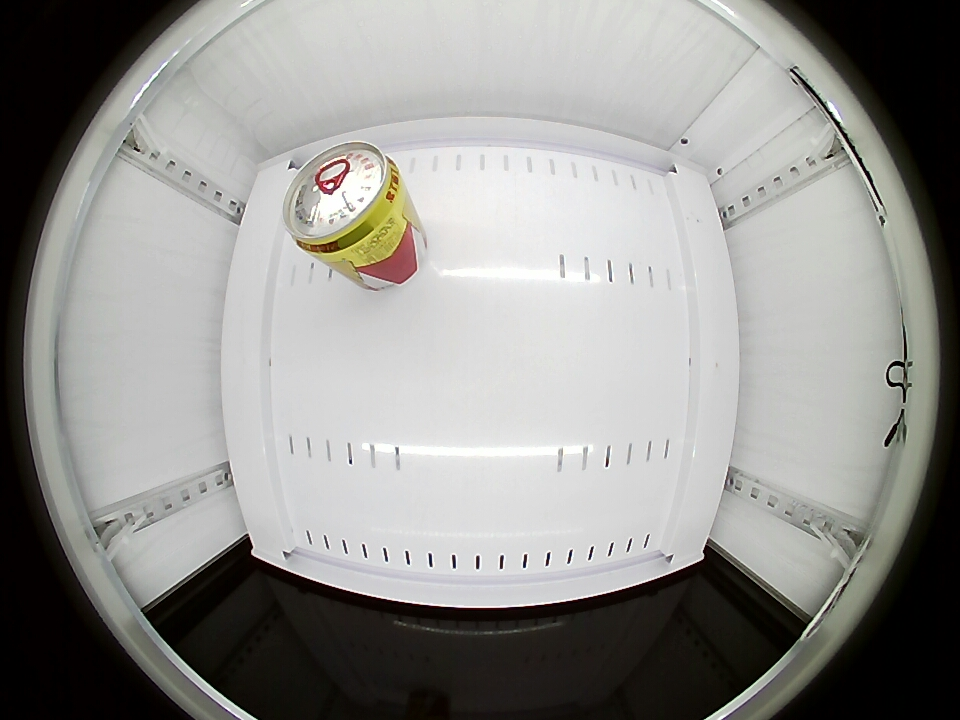dongpeng: (283, 141, 407, 261)
